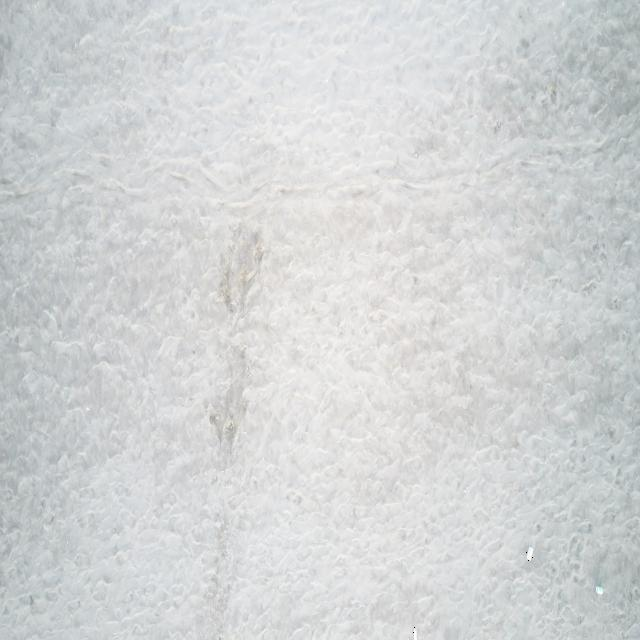tin-and-aluminum-cans: (526, 547, 534, 561), (412, 627, 419, 640), (595, 586, 604, 596)
